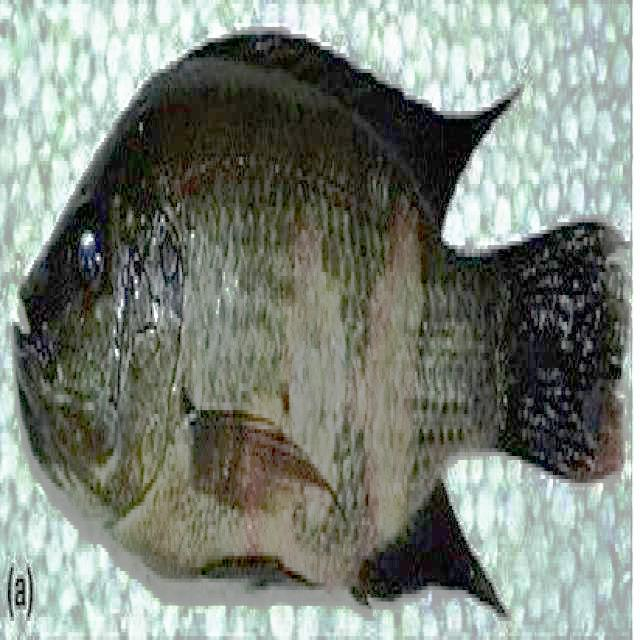Tilapia Lake Virus -TiLV-: (11, 27, 629, 617)
